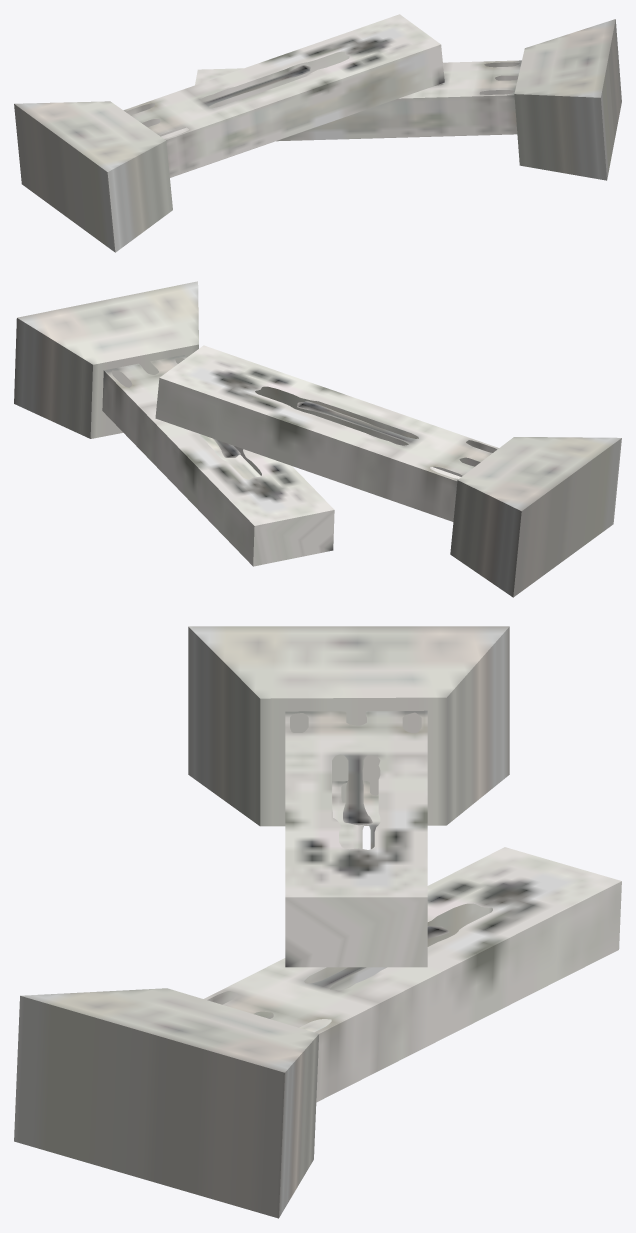
File: poi_r3_leg_l3.fbx
3 views of the same model, one above another, from view 1: azimuth 30°, elevation 25°; view 2: azimuth 150°, elevation 25°; view 3: azimuth 270°, elevation 25° (orthographic). The views are drawn at different scales.
Visible parts, largest first — view 1: mesh_node; view 2: mesh_node; view 3: mesh_node.
Boxes of the visible parts, bbox=[...] form: mesh_node: bbox=[14, 14, 621, 252]; mesh_node: bbox=[14, 281, 621, 597]; mesh_node: bbox=[14, 626, 621, 1218].
Size of the model in its own units: 1.21 by 0.2246 by 0.6843.
1 material, 1 textured.
